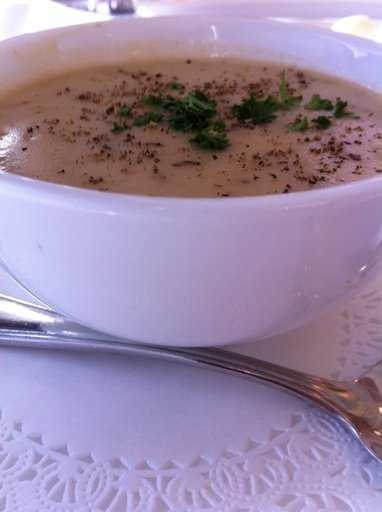soup: (8, 32, 368, 231)
